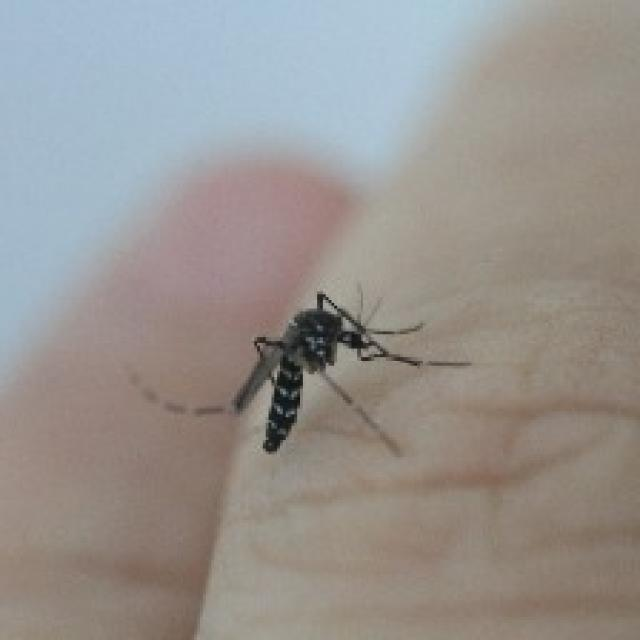aedes: (123, 280, 471, 457)
